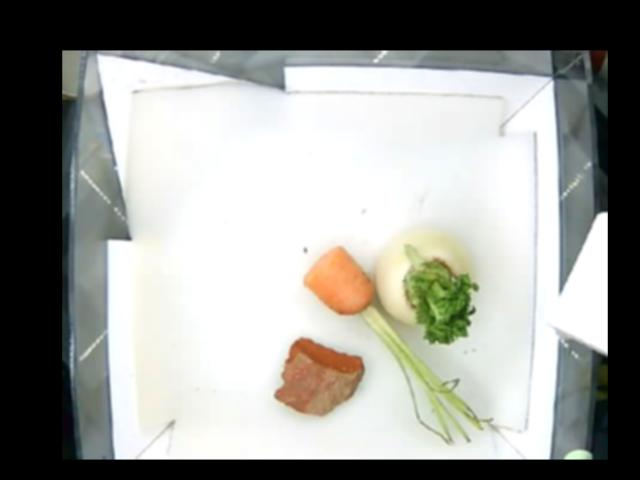Brisk: (273, 331, 362, 419)
Carrot: (301, 244, 383, 329)
Mooli: (377, 226, 473, 345)
